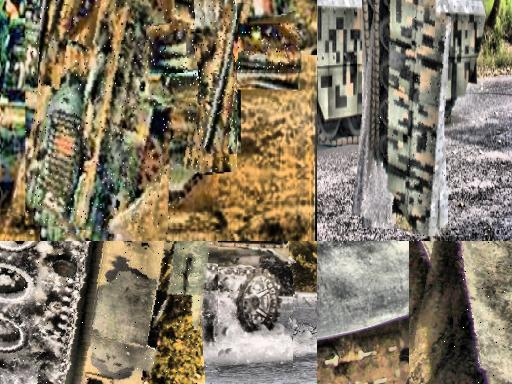tanks: (26, 1, 182, 235), (1, 242, 209, 384), (375, 1, 452, 237), (190, 1, 238, 173), (459, 242, 512, 384), (148, 26, 303, 73), (224, 1, 236, 155)
